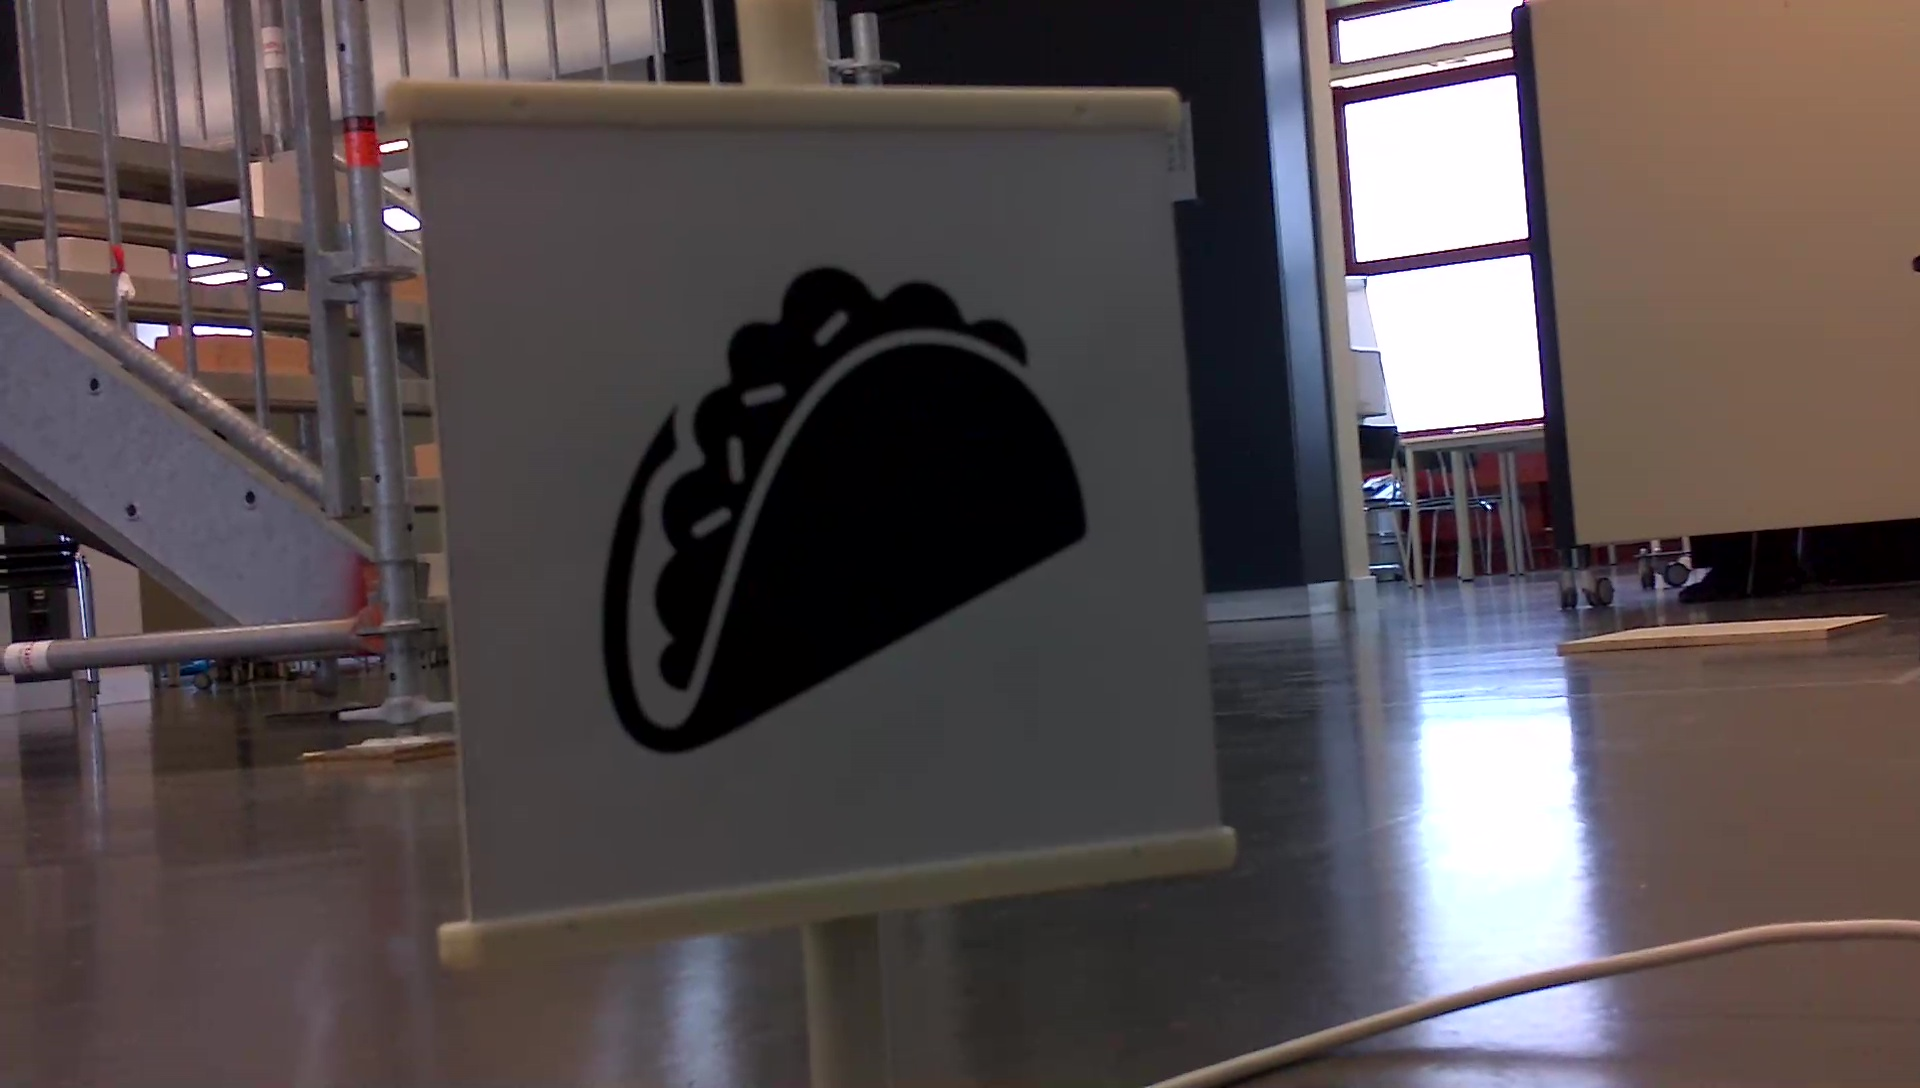taco: (585, 255, 1102, 764)
